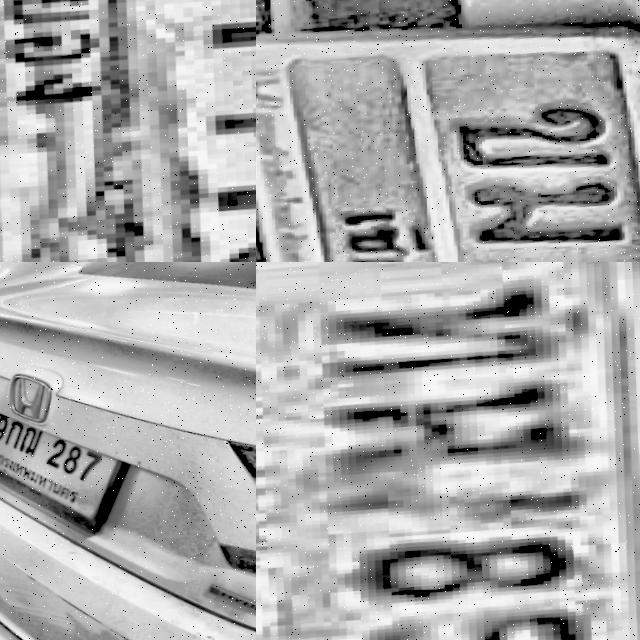license-plate: (256, 262, 640, 640), (256, 3, 640, 262), (0, 0, 256, 262)
